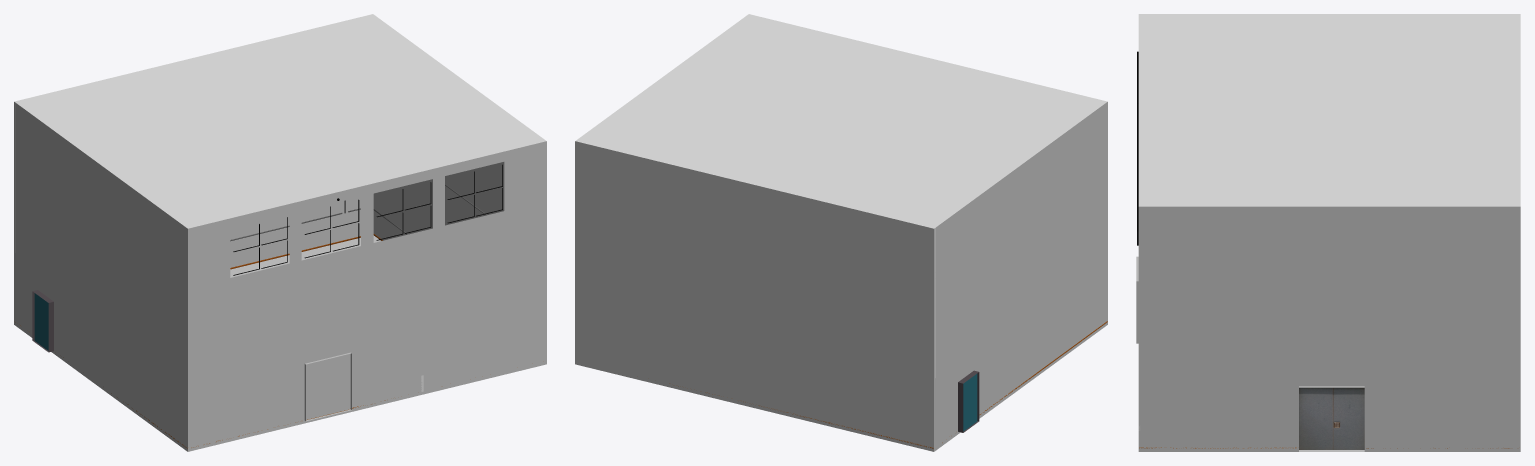
The model's file is Testraum1.fbx.
3 views of the same model, side by side, from view 1: azimuth 30°, elevation 25°; view 2: azimuth 150°, elevation 25°; view 3: azimuth 270°, elevation 25° (orthographic). The views are drawn at different scales.
Visible parts, largest first — view 1: wall, roof, ground, EmergencyExit, entrance, Fensterrahmen; view 2: wall, roof, ground, entrance; view 3: wall, roof, Con_door, ground, Fensterrahmen.
Boxes of the visible parts, x1,y1,x2,y2 form: wall: [14, 102, 546, 448]; roof: [14, 14, 546, 228]; ground: [14, 235, 546, 451]; EmergencyExit: [304, 352, 351, 421]; entrance: [32, 290, 53, 352]; Fensterrahmen: [233, 164, 502, 275]; wall: [575, 102, 1107, 448]; roof: [575, 14, 1107, 228]; ground: [575, 322, 1107, 451]; entrance: [958, 370, 979, 432]; wall: [1138, 206, 1520, 448]; roof: [1138, 14, 1520, 206]; Con_door: [1299, 386, 1364, 451]; ground: [1138, 448, 1520, 451]; Fensterrahmen: [1137, 51, 1138, 245].
Size of the model in its own units: 1569 by 904 by 1282.
